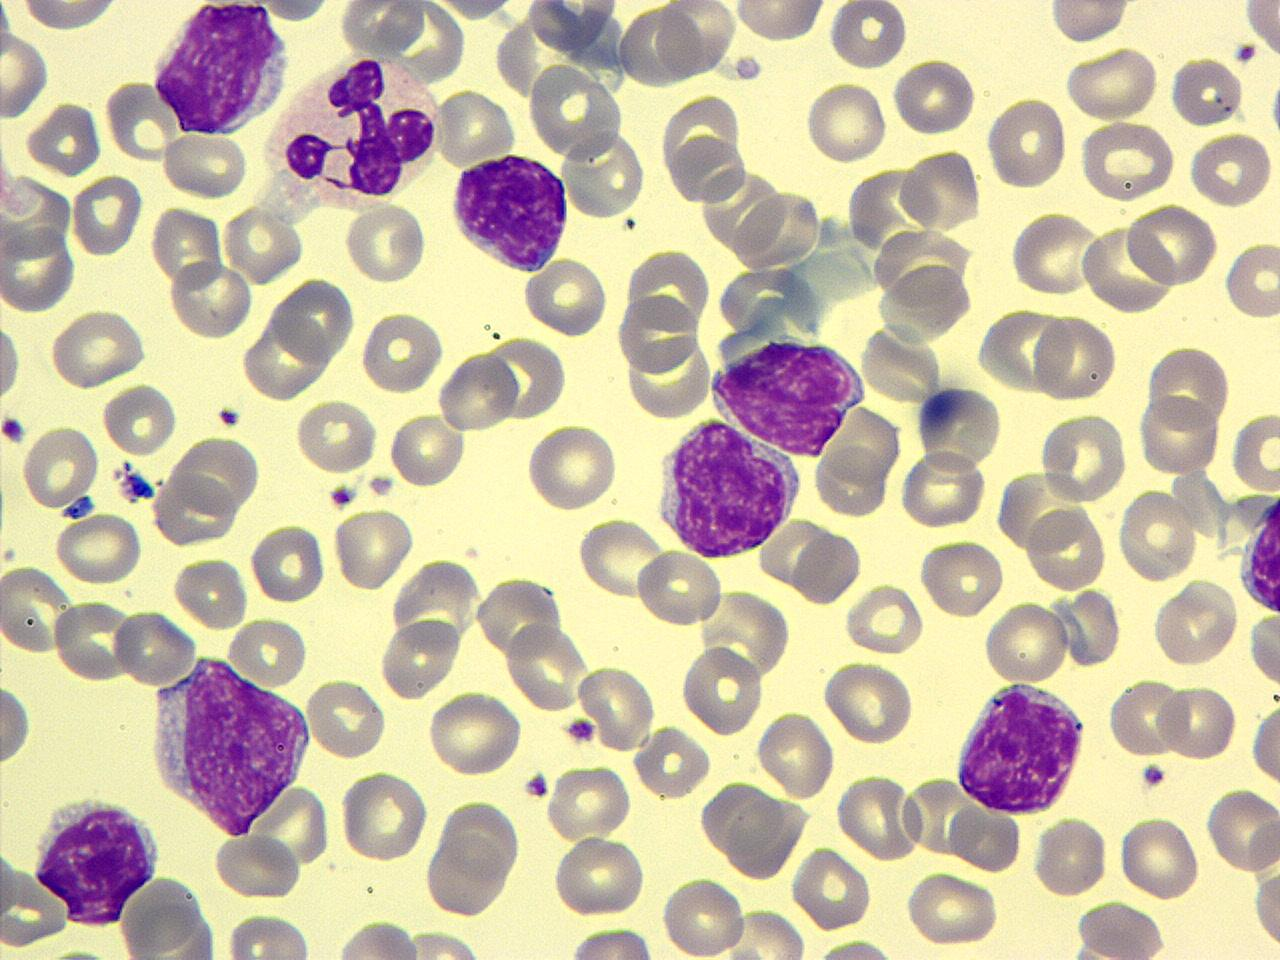Platelets: (912, 381, 1000, 472), (1237, 6, 1279, 68), (1, 413, 30, 447), (562, 715, 597, 743), (61, 494, 98, 520), (522, 769, 550, 802), (1267, 76, 1280, 143), (365, 473, 399, 498), (327, 482, 357, 509), (1138, 760, 1168, 788), (216, 404, 243, 430), (1234, 40, 1260, 66)
RBC: (910, 6, 1280, 450), (810, 2, 1278, 208), (526, 59, 624, 163), (698, 585, 794, 682), (524, 419, 620, 514), (338, 768, 430, 865), (912, 379, 1004, 475), (1123, 199, 1219, 290), (976, 304, 1071, 394), (426, 690, 524, 778), (422, 825, 514, 919), (1079, 220, 1171, 314), (1037, 410, 1129, 504), (1008, 208, 1102, 298), (1141, 342, 1231, 436), (821, 657, 916, 746), (502, 618, 590, 714), (984, 94, 1070, 191), (49, 306, 148, 390), (680, 641, 765, 740), (549, 834, 649, 918), (1076, 119, 1176, 202), (245, 781, 334, 873), (1116, 485, 1198, 584), (1032, 310, 1118, 404), (876, 259, 974, 342), (1062, 43, 1162, 124), (575, 515, 668, 602), (982, 598, 1070, 687), (1152, 576, 1238, 668), (902, 869, 1002, 948), (754, 707, 836, 803), (436, 795, 524, 883), (560, 129, 648, 218), (834, 771, 920, 861), (1117, 811, 1203, 901), (331, 503, 415, 595), (659, 872, 747, 960), (522, 253, 610, 341), (358, 308, 443, 396), (345, 198, 430, 286), (896, 448, 988, 530), (377, 614, 463, 702), (918, 534, 1006, 620), (272, 276, 354, 368), (174, 433, 264, 515), (20, 421, 101, 512), (803, 79, 888, 165), (897, 145, 981, 233), (790, 844, 874, 932), (577, 663, 659, 751), (1026, 502, 1108, 592), (634, 547, 724, 628), (544, 761, 634, 843), (53, 509, 145, 588), (0, 564, 78, 656), (616, 288, 700, 373), (53, 595, 135, 683), (490, 331, 568, 422), (436, 348, 520, 433), (892, 54, 977, 138), (1185, 129, 1275, 208), (0, 224, 78, 315), (304, 676, 388, 759), (221, 204, 305, 286), (435, 85, 518, 169), (1139, 392, 1221, 478), (153, 468, 239, 548), (294, 396, 380, 476), (698, 777, 782, 858), (149, 202, 225, 290), (1204, 786, 1280, 874), (1106, 676, 1186, 758), (249, 520, 328, 605), (167, 260, 252, 339), (1157, 682, 1239, 762), (112, 608, 198, 685), (1031, 813, 1107, 899), (104, 78, 178, 164), (70, 172, 144, 259), (656, 0, 737, 80), (214, 828, 303, 899), (226, 614, 310, 689), (1051, 584, 1125, 670), (388, 411, 467, 491), (813, 443, 894, 520), (160, 129, 248, 199), (843, 582, 924, 656), (172, 553, 248, 631), (27, 99, 102, 177), (666, 131, 746, 205), (1169, 54, 1245, 131), (101, 380, 177, 456), (828, 0, 908, 72), (524, 0, 622, 57), (1074, 899, 1170, 958), (793, 529, 863, 607), (338, 0, 426, 58), (720, 905, 810, 959), (0, 28, 51, 122), (1228, 406, 1280, 496), (222, 910, 314, 959), (1224, 240, 1280, 320), (730, 0, 830, 44), (331, 916, 422, 960), (1046, 1, 1134, 46), (15, 0, 124, 34), (561, 924, 662, 960), (0, 676, 32, 769), (401, 926, 489, 960), (1246, 607, 1280, 692), (1249, 696, 1279, 790), (1238, 2, 1280, 64), (804, 936, 908, 960), (0, 309, 23, 410), (1251, 869, 1280, 950)
WBC: (146, 652, 313, 836), (270, 50, 443, 211), (652, 414, 804, 561), (703, 329, 871, 457), (146, 0, 293, 136), (949, 676, 1091, 817), (28, 788, 166, 930), (446, 149, 574, 274), (1234, 478, 1280, 622)
